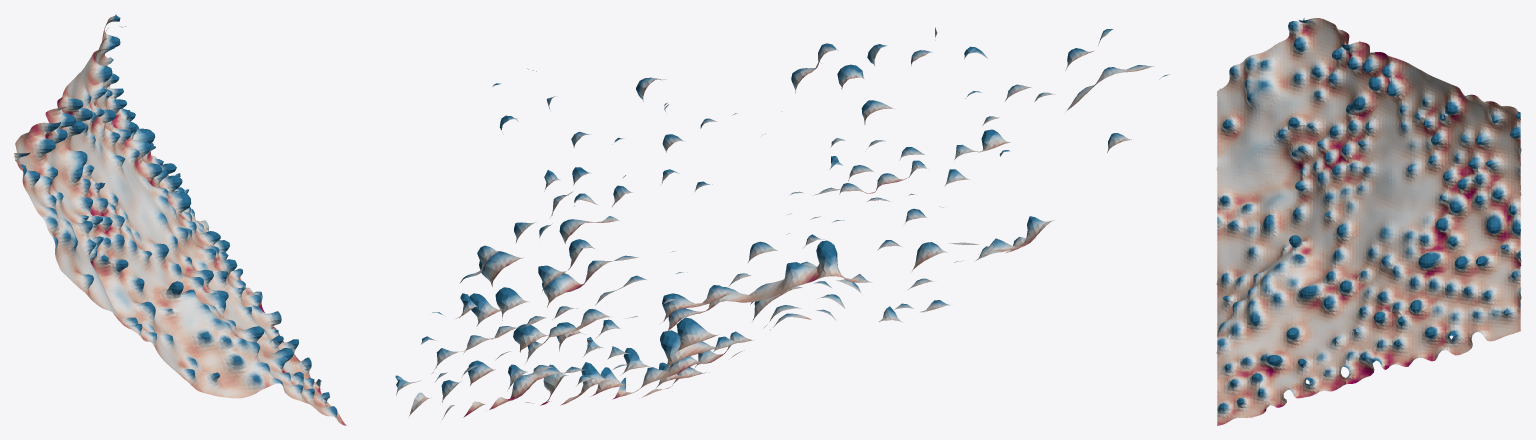
The model's file is crop1146_deviation.glb.
The picture shows the model from 3 angles, left to right: view 1: azimuth 30°, elevation 25°; view 2: azimuth 150°, elevation 25°; view 3: azimuth 270°, elevation 25°; orthographic projection. The views are drawn at different scales.
Parts seen in each view (by area): view 1: world; view 2: world; view 3: world.
Part boxes in pixels (x1,y1,x2,y2): world: [14, 14, 346, 425]; world: [395, 27, 1169, 419]; world: [1216, 18, 1521, 425].
Bounding box in the file's own units: 1480 × 1522 × 1480.
